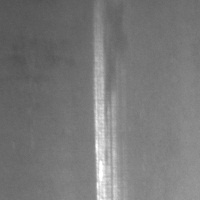scratches: (92, 32, 120, 200)
